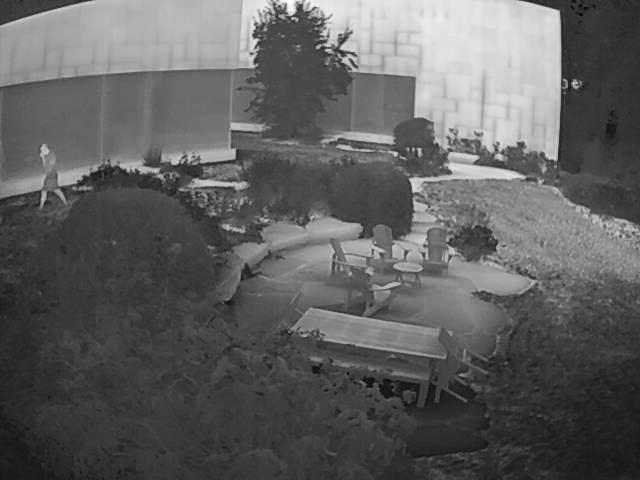person: (36, 140, 70, 214)
